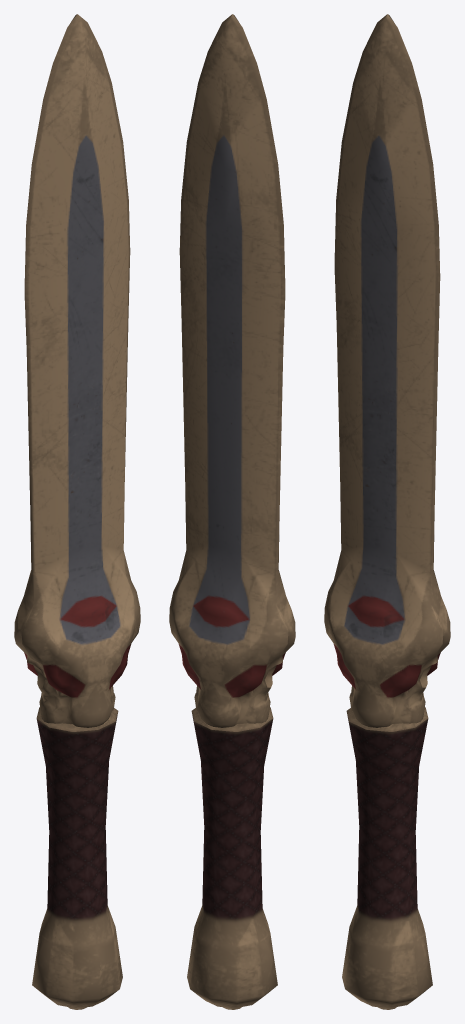
Rendered from Dagger 1.fbx.
3 views of the same model, side by side, from view 1: azimuth 30°, elevation 25°; view 2: azimuth 150°, elevation 25°; view 3: azimuth 330°, elevation 25° (orthographic).
Parts seen in each view (by area): view 1: Dagger_1; view 2: Dagger_1; view 3: Dagger_1.
Part boxes in pixels (x1,y1,x2,y2): Dagger_1: [14, 14, 140, 1009]; Dagger_1: [169, 14, 295, 1009]; Dagger_1: [324, 14, 450, 1009].
Size of the model in its own units: 5.91 by 47.6 by 4.03.
1 material, 1 textured.
